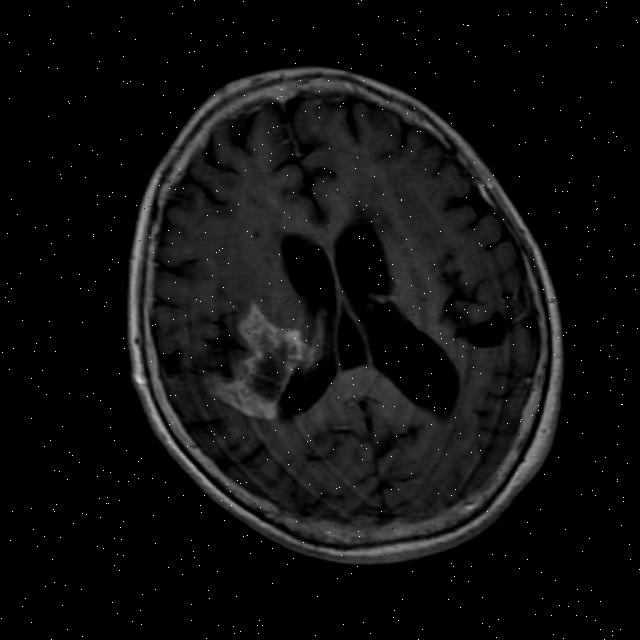Glioma: (198, 298, 312, 422)
